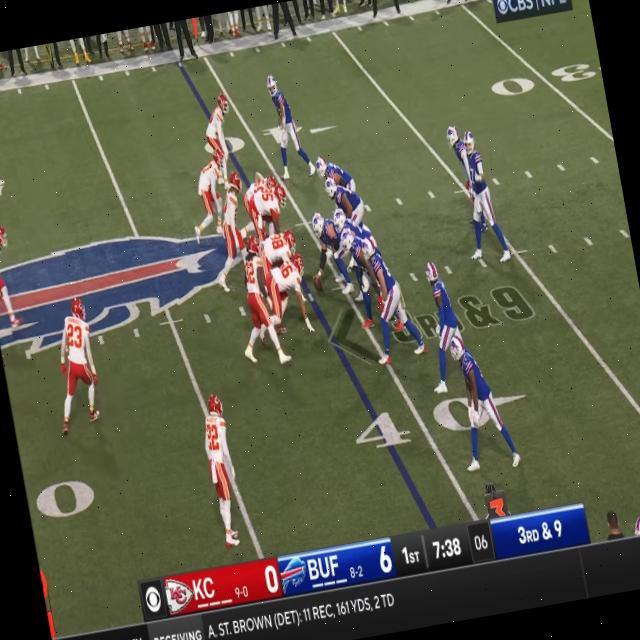Player: (194, 388, 250, 552), (450, 330, 513, 469), (360, 230, 424, 356), (46, 294, 106, 422), (462, 126, 506, 267), (238, 235, 281, 362), (266, 72, 308, 180), (213, 170, 256, 272), (264, 253, 314, 325), (340, 228, 376, 328), (422, 258, 460, 340), (310, 210, 346, 296), (192, 146, 232, 221), (198, 92, 236, 154), (0, 222, 21, 329), (248, 183, 290, 234), (323, 173, 363, 220), (314, 150, 356, 194), (334, 204, 374, 246), (258, 228, 300, 264), (444, 123, 469, 172), (240, 170, 278, 202)
